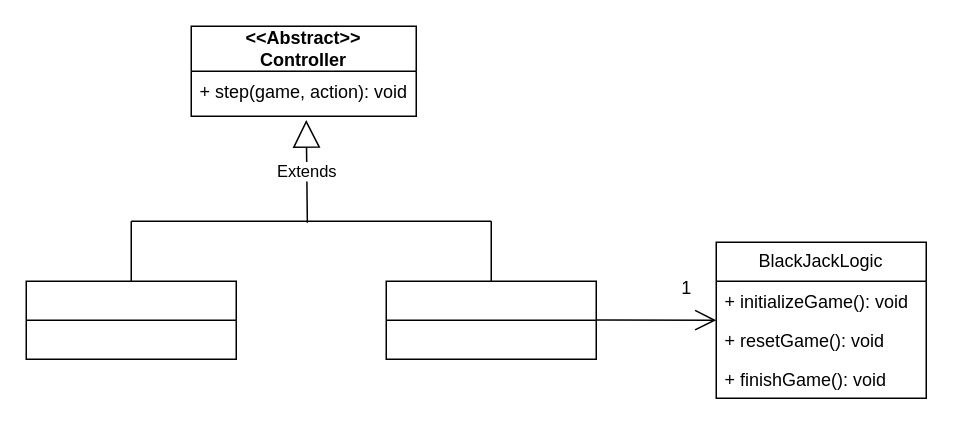
This 953x429 diagram has some shape labels left out. Each missing label, with the centre of its shape:
"BlackJackController" goes at [490,319].
"MenuController" goes at [130,319].
